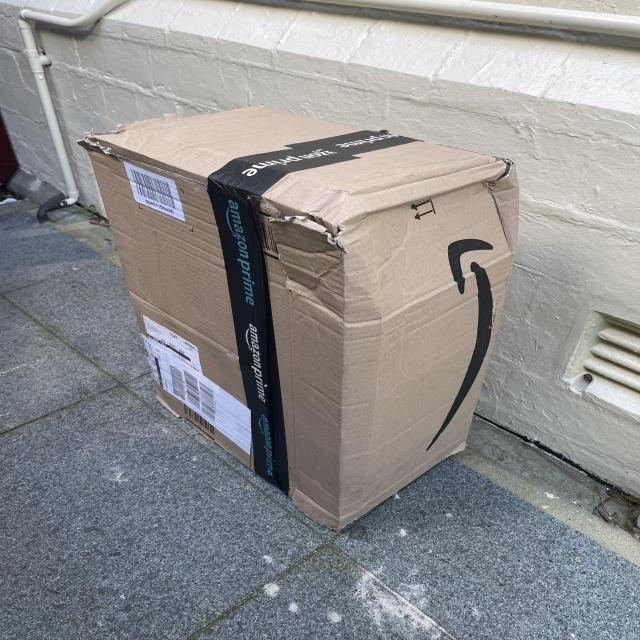Garbage: (68, 100, 530, 534)
